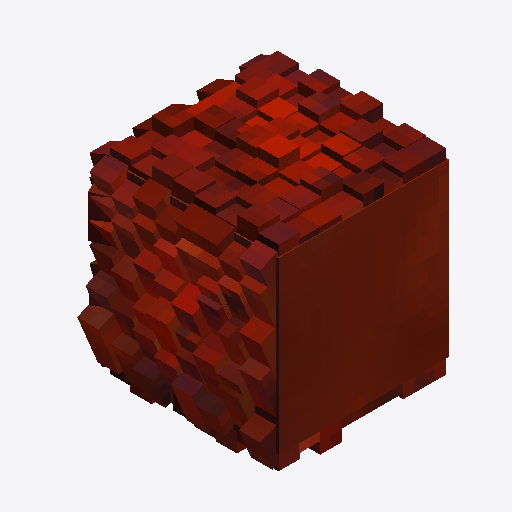
A Minecraft block model of 220 cuboids, rendered isometrically (azimuth 45°, elevation 35.3°) with the resource pack's own textures.
Parts seen in each view (by area): main, element 55, element 78, element 92, element 83, element 79, element 81, element 68, element 71, element 65, element 57, element 82 (+28 smaller).
Part boxes in pixels (x1,y1,x2,y2): main: (127,158,448,454); element 55: (77,305,122,373); element 78: (239,413,277,469); element 92: (239,357,275,416); element 83: (239,316,275,377); element 79: (192,333,229,398); element 81: (239,240,277,303); element 68: (145,296,180,355); element 71: (171,372,211,432); element 65: (171,282,210,336); element 57: (132,356,170,407); element 82: (239,275,275,327).
Size of the model in its own units: 20 by 20.6 by 18.88.